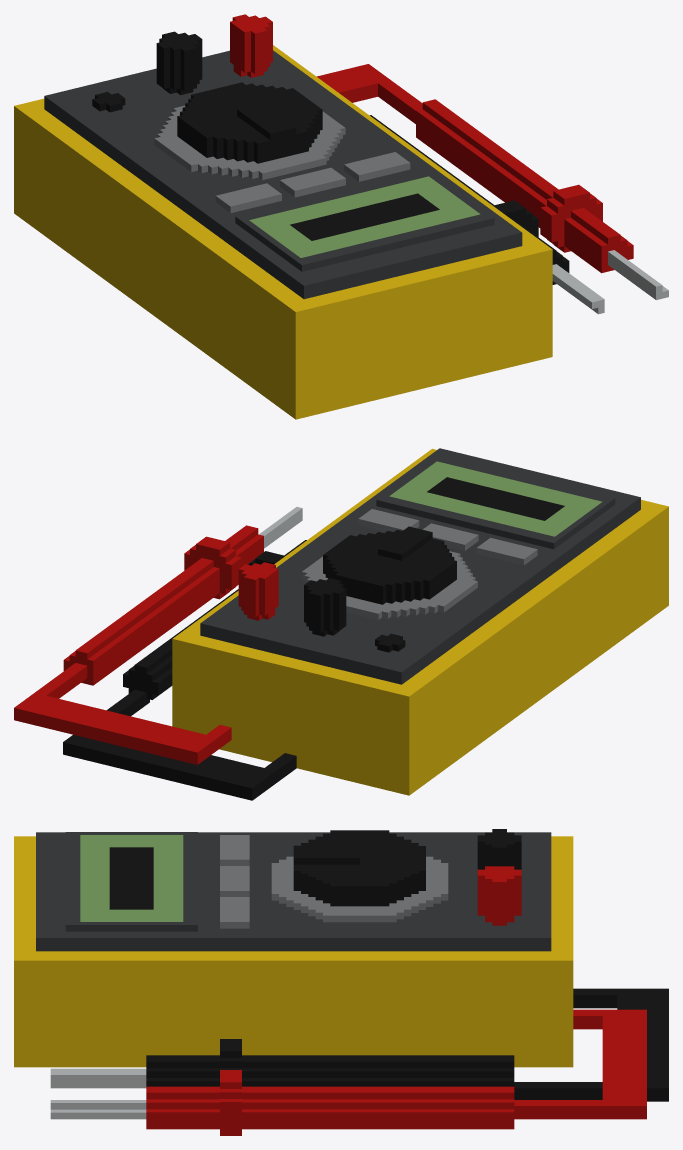
File: multimeter.glb
3 renders of one model, top to bottom at view 1: azimuth 30°, elevation 25°; view 2: azimuth 150°, elevation 25°; view 3: azimuth 270°, elevation 25°, orthographic. The views are drawn at different scales.
Parts seen in each view (by area): view 1: multimeter:compound; view 2: multimeter:compound; view 3: multimeter:compound.
Boxes of the visible parts, left/top/right/bottom form: multimeter:compound: left=14, top=14, right=668, bottom=419; multimeter:compound: left=14, top=448, right=668, bottom=800; multimeter:compound: left=14, top=829, right=668, bottom=1135.
Size of the model in its own units: 0.128 by 0.05 by 0.178.
